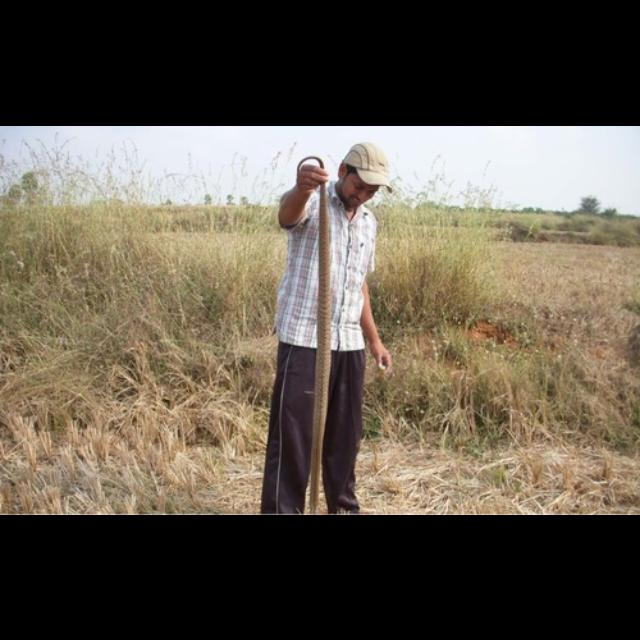snake: (296, 150, 336, 514)
